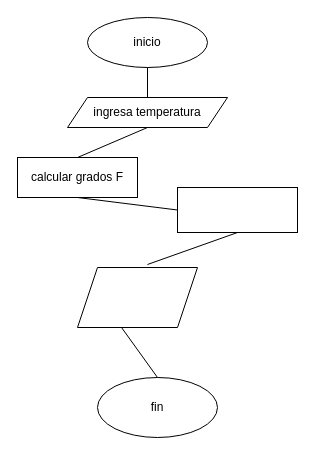
Image size: 315x455. Some labels were removed from this diagram. Each missing label, with the box of its shape:
calcular grados K: (176, 186, 298, 232)
mostrar resultado: (76, 266, 198, 328)
